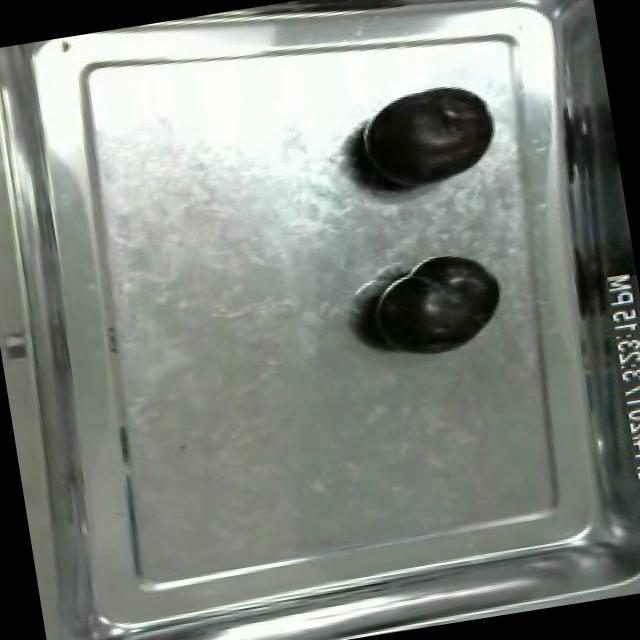Fruit: (345, 74, 509, 202), (356, 244, 513, 368)
